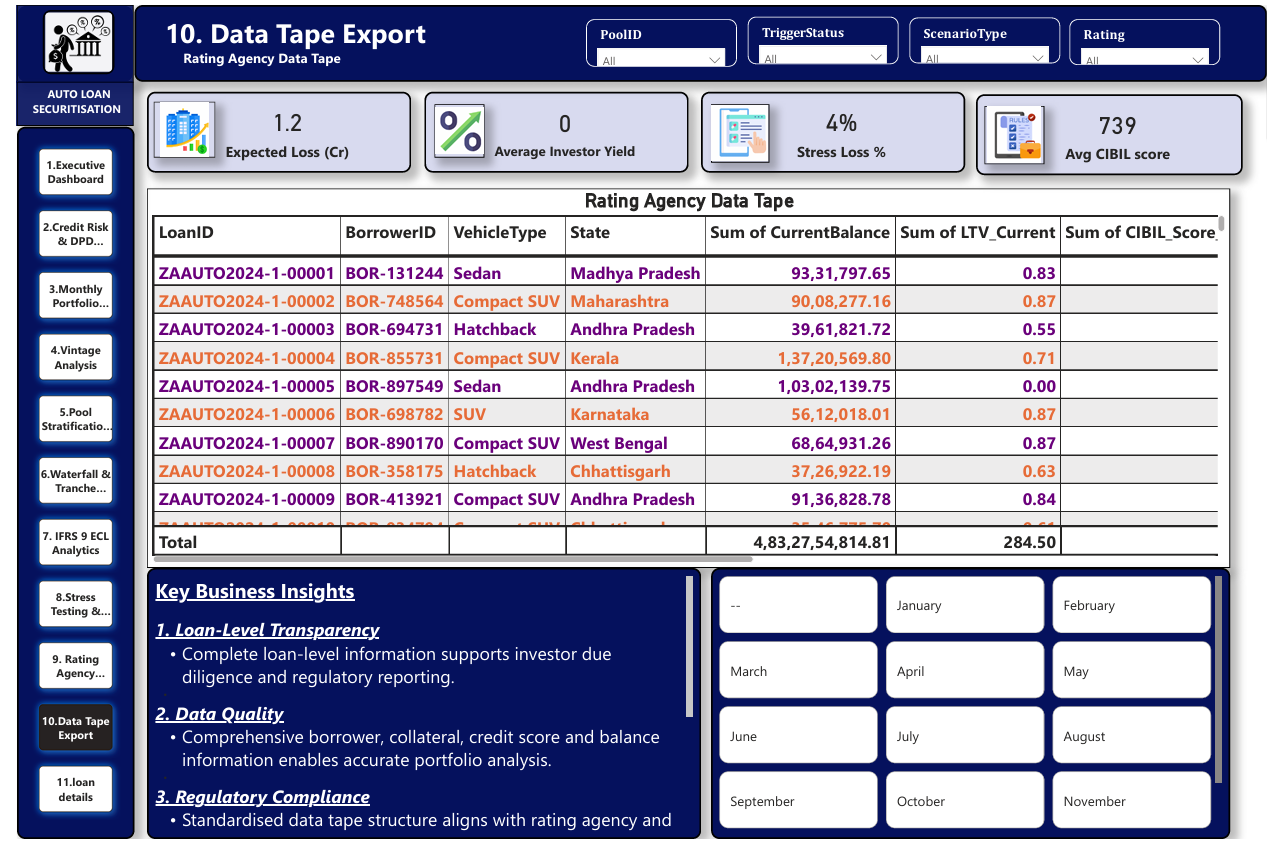

Layout of this report page (visuals, bound fields, positions):
{"tool":"powerbi","page":{"name":"10.Data Tape Export","canvas":[1500,1000],"ordinal":9},"visuals":[{"type":"shape","box":[0,0,139.9,92.9],"z":0},{"type":"textbox","box":[140.8,0,1358.9,92.2],"z":1000},{"type":"image","box":[31.4,6,85.7,77.2],"z":2000},{"type":"textbox","box":[0,91.7,139.9,53.1],"z":3000},{"type":"slicer","fields":{"Values":["Stress_Testing_Data.PoolID"]},"box":[682.8,16.9,181,56.7],"z":4000},{"type":"slicer","fields":{"Values":["Stress_Testing_Data.TriggerStatus"]},"box":[877.1,14.5,181,56.7],"z":5000},{"type":"slicer","fields":{"Values":["Stress_Testing_Data.ScenarioType"]},"box":[1070.7,15.1,181,55.3],"z":6000},{"type":"card","fields":{"Values":["Loan Master.Expected Loss (Cr)"]},"box":[155.8,103.9,316.7,97.2],"z":7000},{"type":"card","fields":{"Values":["Stress_Testing_Data.Average Investor Yield"]},"box":[489.3,103.9,316.7,97.2],"z":8000},{"type":"card","fields":{"Values":["Loan Master.Stress Loss %"]},"box":[821,103.9,316.7,97.2],"z":9000},{"type":"card","fields":{"Values":["Loan Master.Avg CIBIL score"]},"box":[1151,107.2,320,97.2],"z":10000},{"type":"pageNavigator","box":[0,145.8,140.8,854.6],"z":11000},{"type":"slicer","fields":{"Values":["Stress_Testing_Data.Rating"]},"box":[1263.4,16.8,181,55.3],"z":12000},{"type":"image","box":[164.2,115.6,73.7,67],"z":13000},{"type":"image","box":[832.8,119,70.4,70.4],"z":14000},{"type":"image","box":[1161.2,120.6,72.1,70.4],"z":15000},{"type":"image","box":[501,119,60.3,63.7],"z":16000},{"type":"tableEx","title":"Rating Agency Data Tape","fields":{"Values":["DPD History.LoanID","Loan Master.BorrowerID","Loan Master.VehicleType","Loan Master.State","Sum(DPD History.CurrentBalance)","Sum(Loan Master.LTV_Current)","Sum(Loan Master.CIBIL_Score_Origination)","DPD History.Current Balancedpd (Cr)","Sum(Loan Master.LGD_Estimate)","Sum(Loan Master.ECL_Provision)","Sum(Loan Master.PD_Estimate)"]},"box":[155.8,219.5,1300.3,455.8],"z":17000},{"type":"textbox","box":[155.8,675.3,665.2,325.1],"z":18000},{"type":"advancedSlicerVisual","fields":{"Values":["Calendar.Month"]},"box":[832.8,675.3,623.3,325.1],"z":19000}]}

Visuals, with their boxes in screenshot pixels (x1, y1, x2, y2), scaled from the page's 1500x1000 canvas onto the 1271x846 screenshot:
shape: bbox=[0, 0, 119, 79]
textbox: bbox=[119, 0, 1270, 78]
image: bbox=[27, 5, 99, 70]
textbox: bbox=[0, 78, 119, 123]
slicer - Stress_Testing_Data.PoolID: bbox=[579, 14, 732, 62]
slicer - Stress_Testing_Data.TriggerStatus: bbox=[743, 12, 897, 60]
slicer - Stress_Testing_Data.ScenarioType: bbox=[907, 13, 1061, 60]
card - Loan Master.Expected Loss (Cr): bbox=[132, 88, 400, 170]
card - Stress_Testing_Data.Average Investor Yield: bbox=[415, 88, 683, 170]
card - Loan Master.Stress Loss %: bbox=[696, 88, 964, 170]
card - Loan Master.Avg CIBIL score: bbox=[975, 91, 1246, 173]
pageNavigator: bbox=[0, 123, 119, 845]
slicer - Stress_Testing_Data.Rating: bbox=[1071, 14, 1224, 61]
image: bbox=[139, 98, 202, 154]
image: bbox=[706, 101, 765, 160]
image: bbox=[984, 102, 1045, 162]
image: bbox=[425, 101, 476, 155]
"Rating Agency Data Tape" tableEx: bbox=[132, 186, 1234, 571]
textbox: bbox=[132, 571, 696, 845]
advancedSlicerVisual - Calendar.Month: bbox=[706, 571, 1234, 845]
